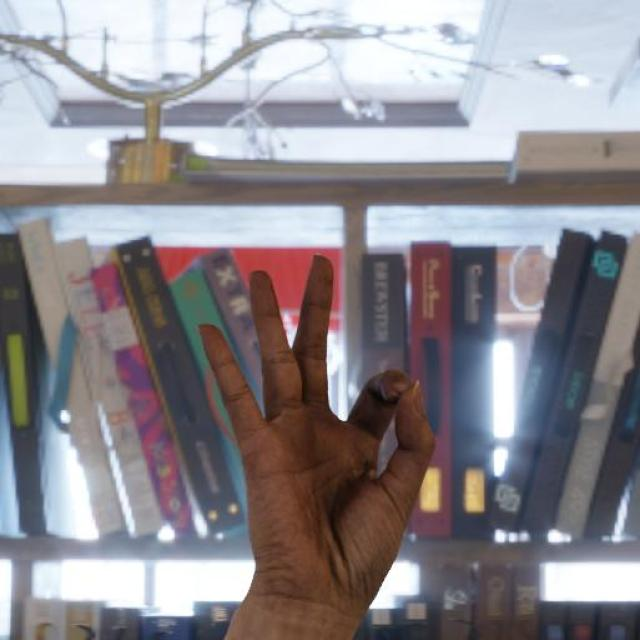F: (195, 250, 441, 606)
